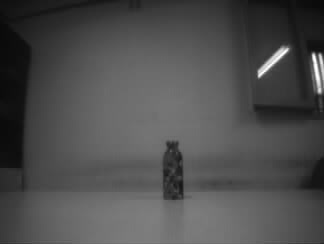Bottle: (162, 140, 184, 200)
